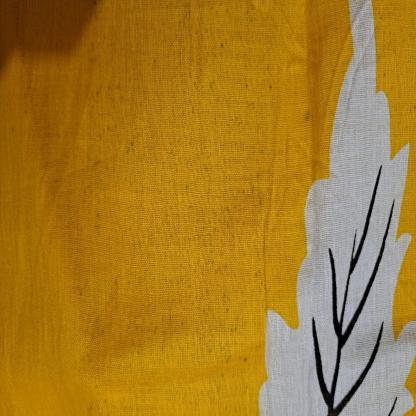spot: (86, 79, 127, 105), (93, 184, 107, 245), (92, 120, 119, 147), (202, 62, 219, 102), (242, 62, 254, 100), (220, 344, 232, 381), (239, 182, 261, 200), (222, 291, 232, 319), (124, 134, 138, 154), (266, 64, 274, 94), (218, 34, 227, 59), (182, 173, 192, 194), (251, 265, 264, 281), (380, 64, 390, 84), (229, 321, 240, 334), (242, 351, 250, 368), (11, 124, 16, 133)
